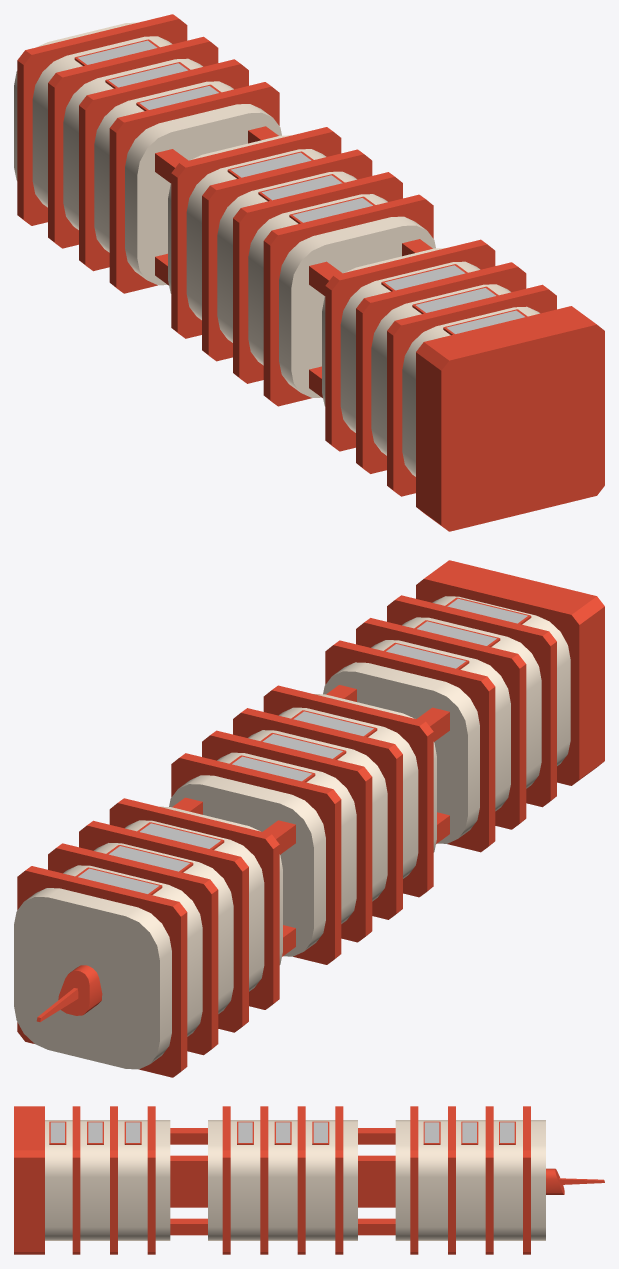
The model's file is Building03.fbx.
The picture shows the model from 3 angles, top to bottom: view 1: azimuth 30°, elevation 25°; view 2: azimuth 150°, elevation 25°; view 3: azimuth 270°, elevation 25°; orthographic projection. The views are drawn at different scales.
Visible parts, largest first — view 1: c038; view 2: c038; view 3: c038.
Boxes of the visible parts, <box> form: c038: <box>14,14,604,531</box>; c038: <box>14,560,604,1077</box>; c038: <box>14,1106,604,1254</box>.
Bounding box in the file's own units: 920 × 920 × 4721.
